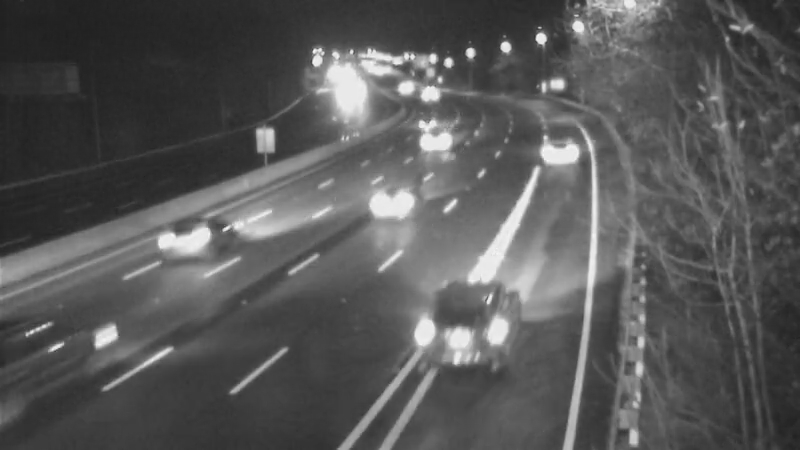vehicle: (425, 251, 535, 361), (1, 301, 107, 411), (515, 111, 595, 191), (353, 174, 433, 254), (149, 199, 229, 279), (377, 66, 427, 116), (397, 67, 447, 117), (397, 100, 447, 150), (418, 115, 468, 165)
